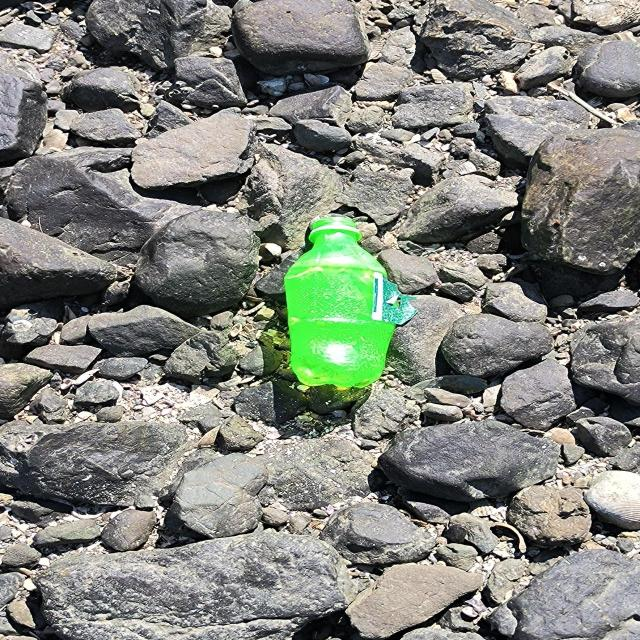plastic_waste: (283, 216, 417, 389)
